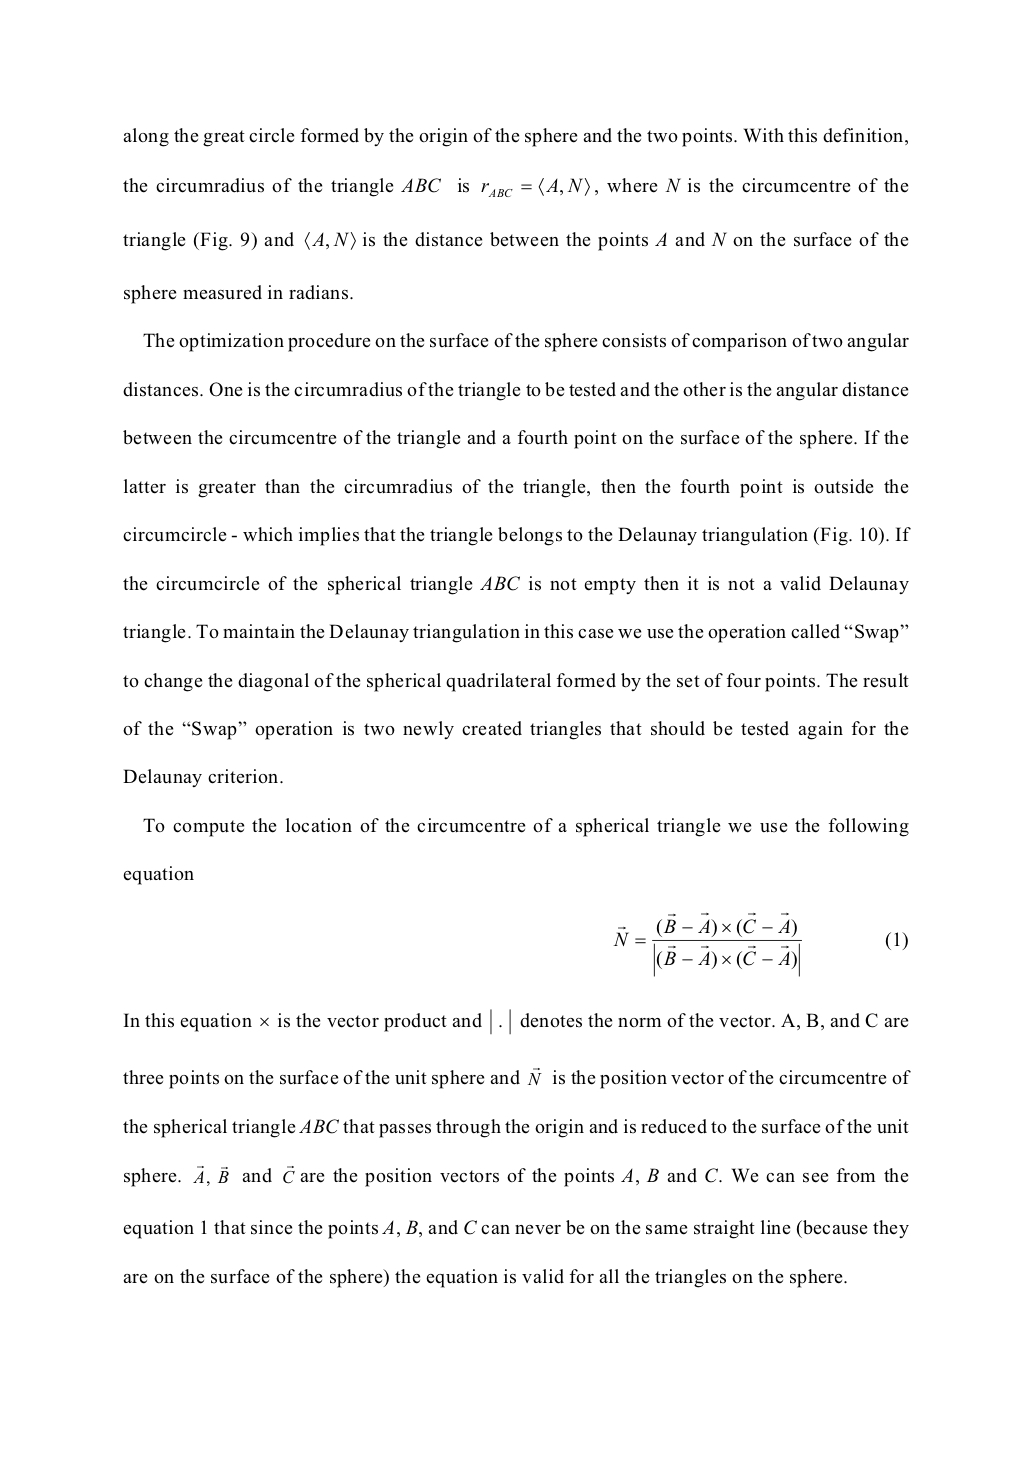formula: (613, 912, 907, 976)
